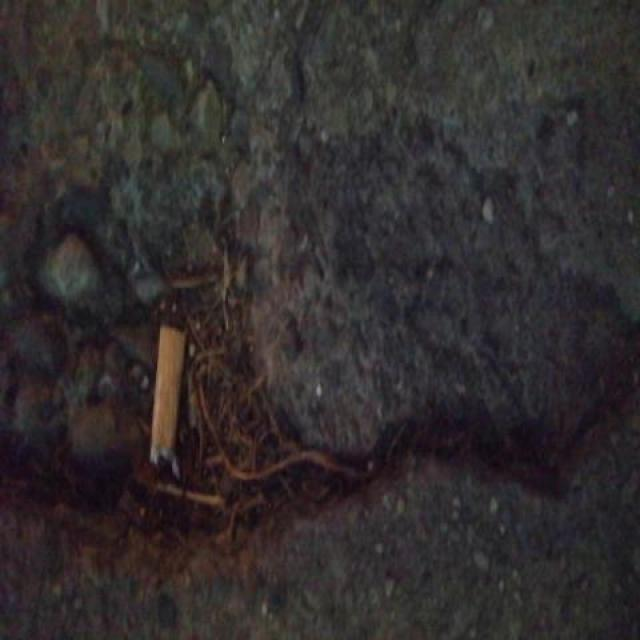non-organic waste: (146, 316, 190, 484)
